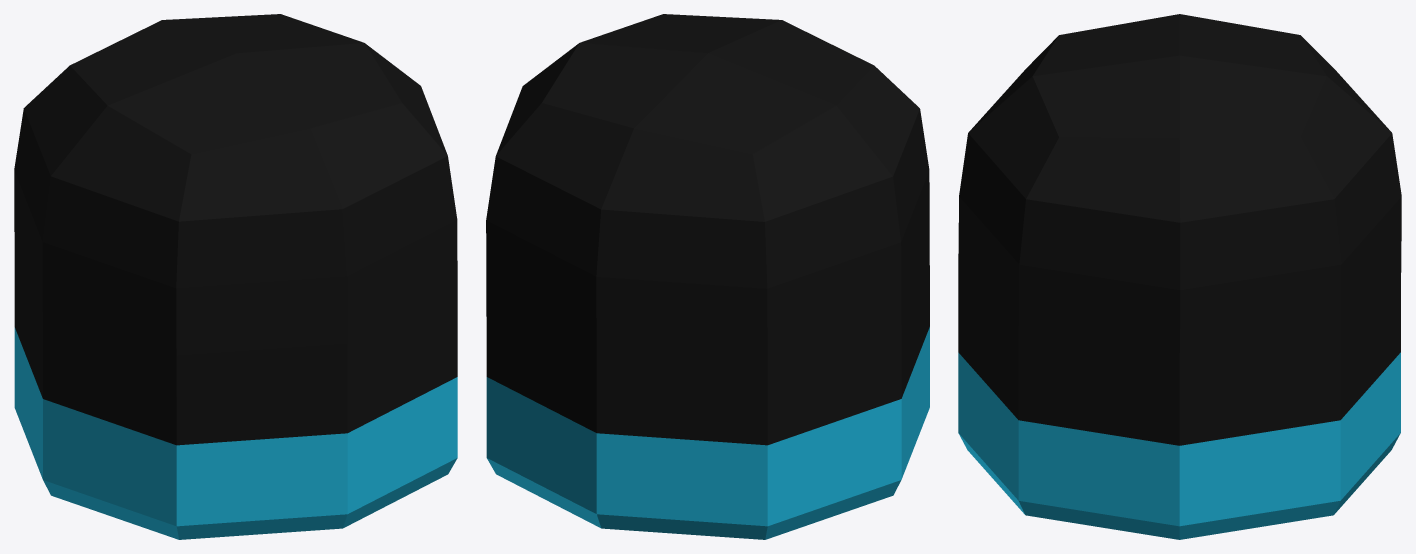
The model's file is bullet.fbx.
3 renders of one model, left to right at view 1: azimuth 30°, elevation 25°; view 2: azimuth 150°, elevation 25°; view 3: azimuth 270°, elevation 25°, orthographic.
Parts seen in each view (by area): view 1: Bullet; view 2: Bullet; view 3: Bullet.
Part boxes in pixels (x1,y1,x2,y2): Bullet: (14, 14, 457, 539); Bullet: (486, 14, 929, 539); Bullet: (958, 14, 1401, 539).
Size of the model in its own units: 20 by 20 by 20.
